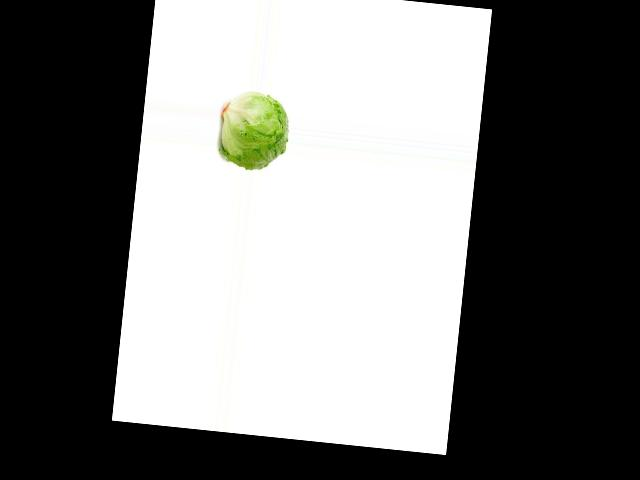lettuce: (218, 93, 292, 172)
